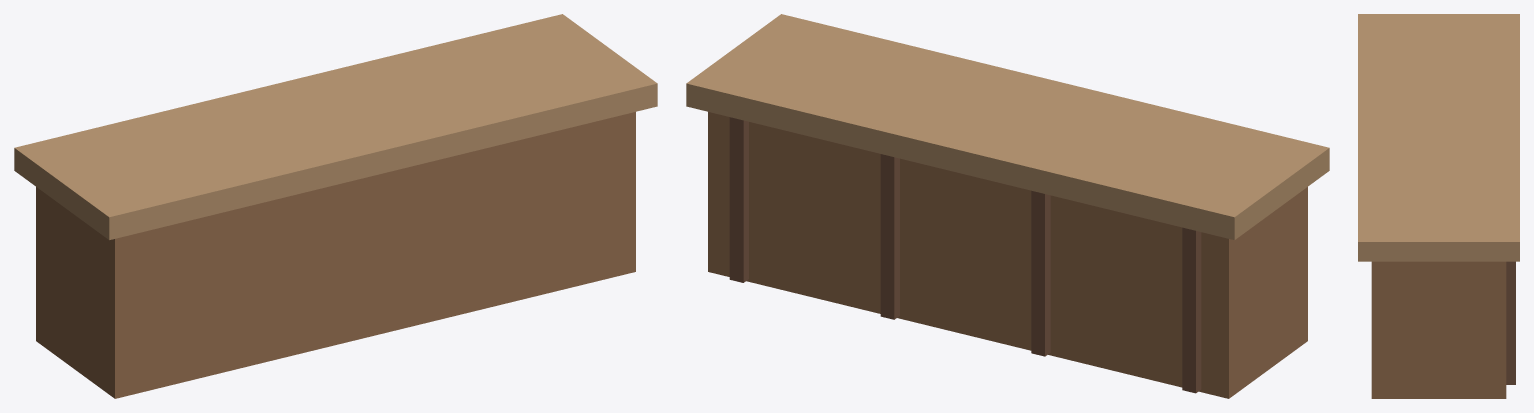
File: tavern_bar_straight.glb
3 views of the same model, side by side, from view 1: azimuth 30°, elevation 25°; view 2: azimuth 150°, elevation 25°; view 3: azimuth 270°, elevation 25° (orthographic). The views are drawn at different scales.
Visible parts, largest first — view 1: tavern_bar_straight_Mesh; view 2: tavern_bar_straight_Mesh; view 3: tavern_bar_straight_Mesh.
Part boxes in pixels (x1,y1,x2,y2): tavern_bar_straight_Mesh: [14, 14, 657, 398]; tavern_bar_straight_Mesh: [686, 14, 1329, 398]; tavern_bar_straight_Mesh: [1358, 14, 1519, 398].
Size of the model in its own units: 4 by 1.33 by 1.2.
